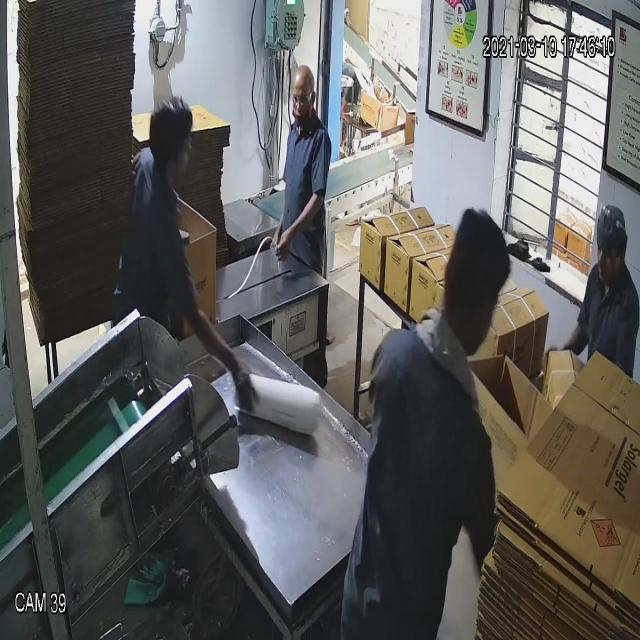No_Gloves: (62, 72, 304, 357)
